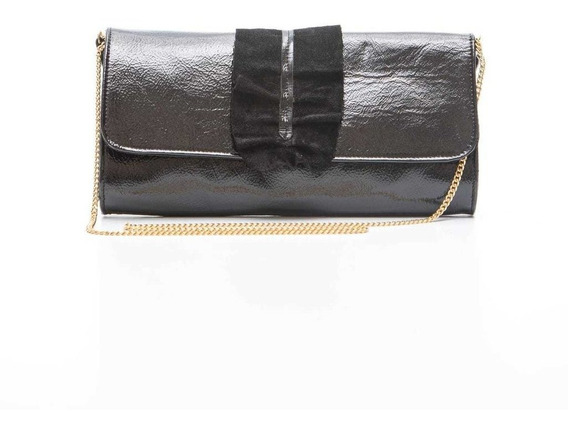cartera: (85, 23, 485, 233)
